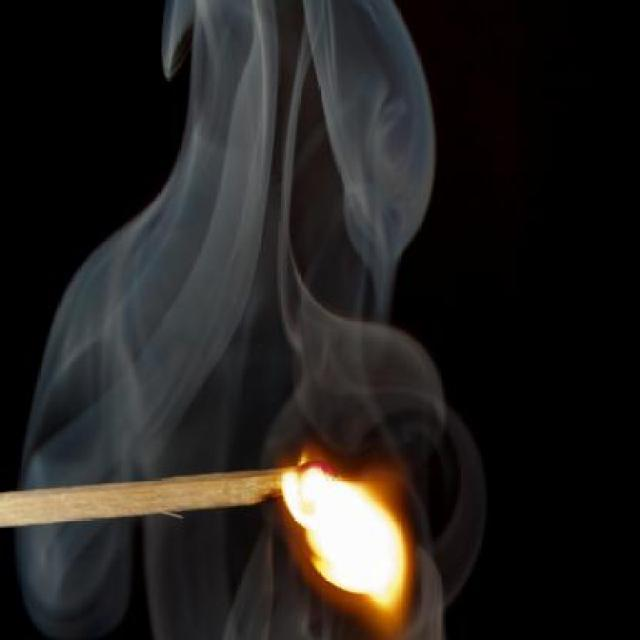Fire: (280, 458, 427, 628)
Smoke: (0, 0, 500, 640)
